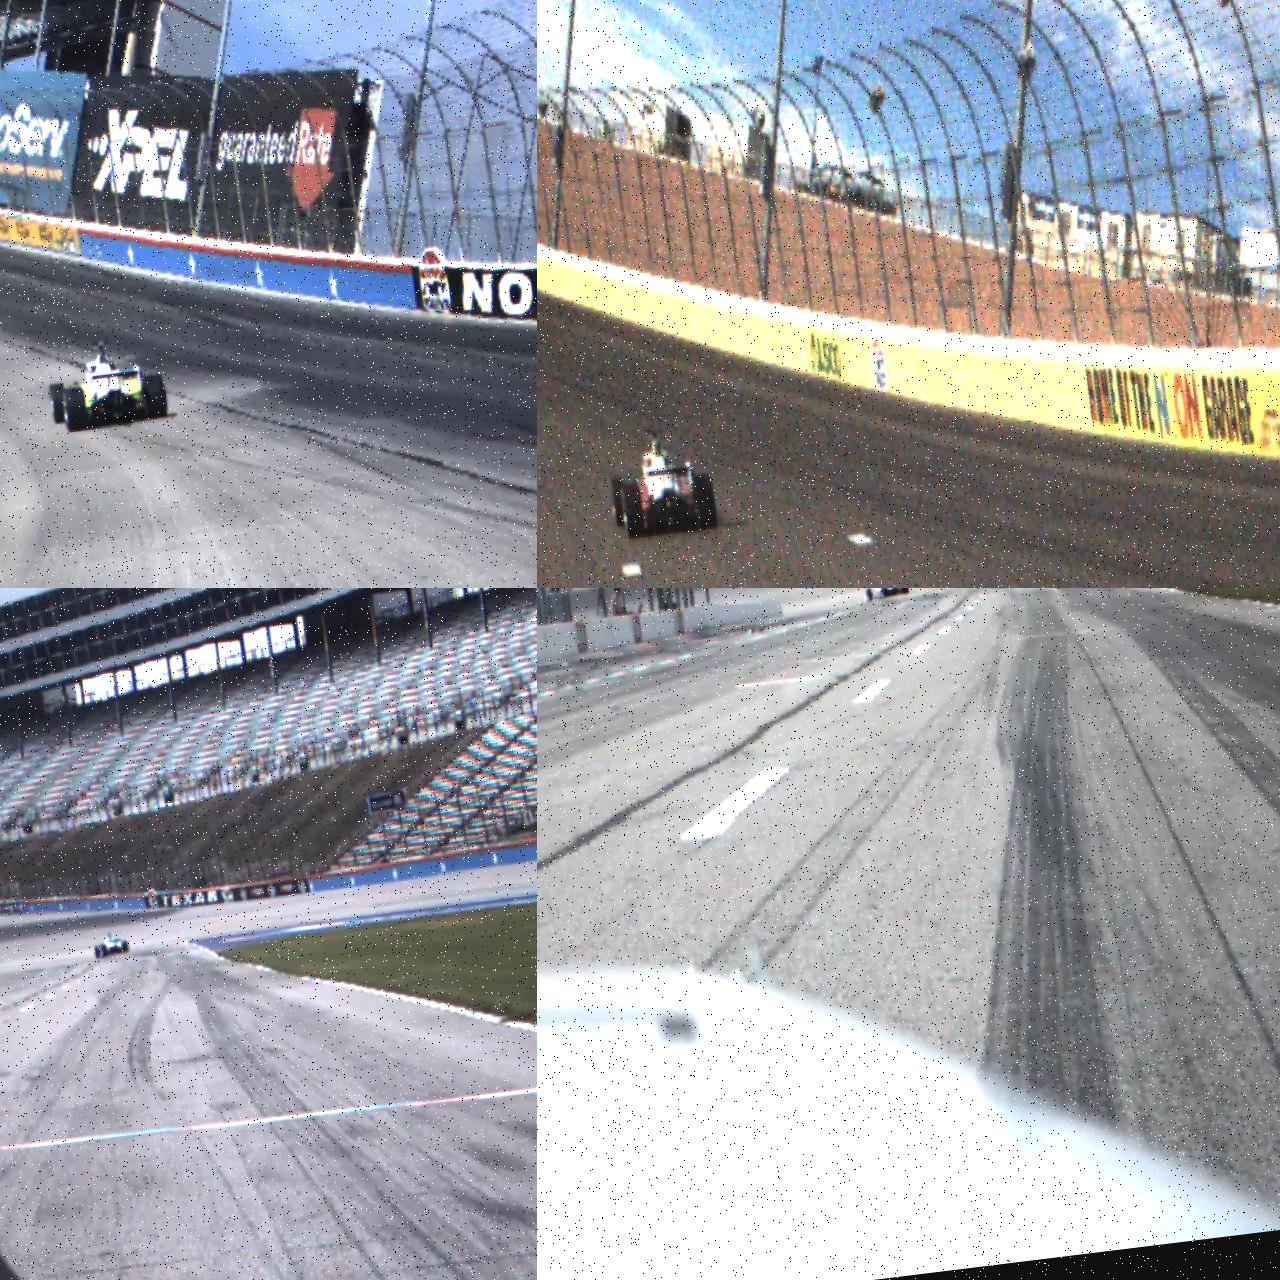AV: (604, 422, 719, 540), (43, 333, 170, 434), (91, 930, 129, 959), (864, 588, 910, 602)
Wheel: (694, 471, 719, 531), (621, 482, 646, 539), (141, 374, 169, 420), (62, 386, 89, 433), (611, 474, 628, 527), (49, 382, 69, 425), (94, 946, 101, 960), (122, 940, 129, 953), (866, 588, 873, 601), (102, 945, 109, 956), (901, 588, 908, 594)
